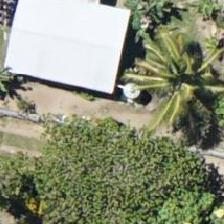coconut_tree: (130, 31, 220, 121)
